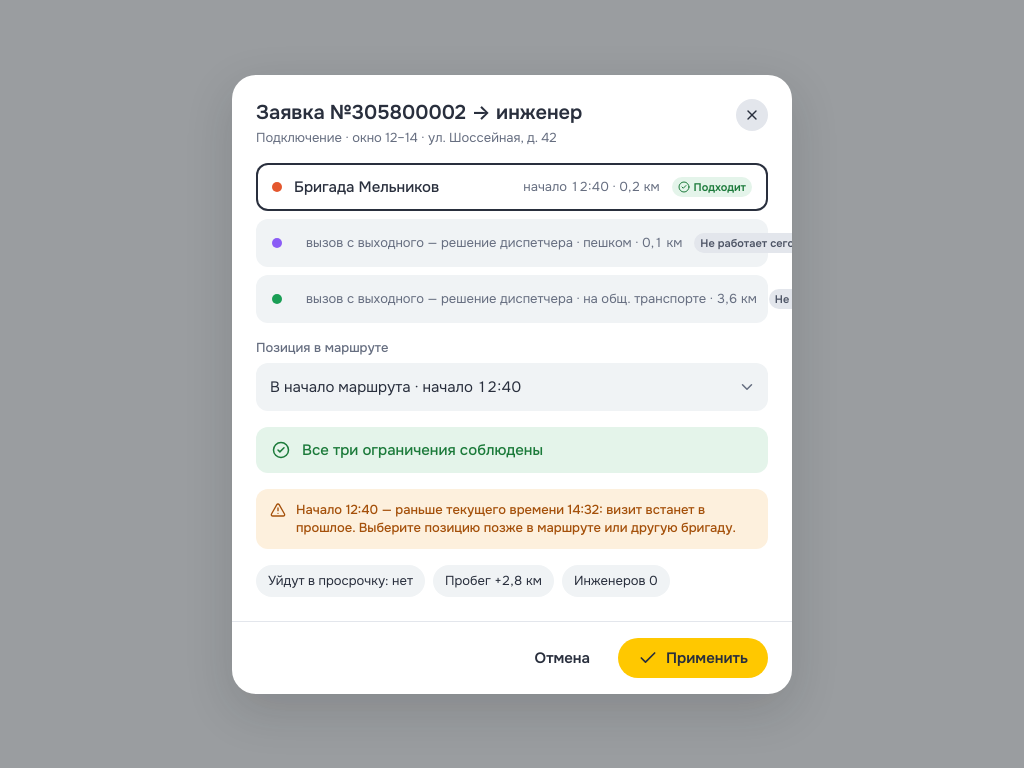
Test: DS-08 «Ручное переназначение» › ошибка применения — текст бэка в окне, окно остаётся открытым
The width and height of the screenshot is (1024, 768).
Expected: the text "Все три ограничения соблюдены" is shown, [256,426,768,472]
Click the button "Применить". click: (693, 658)
box: [618,638,768,678]
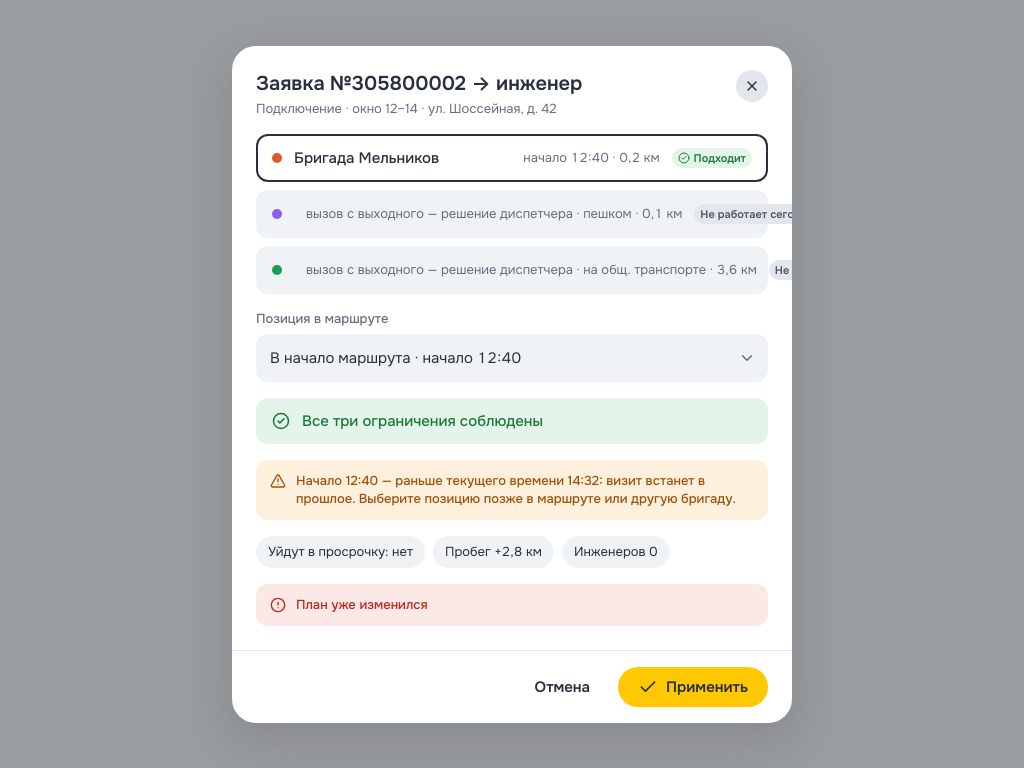
Expected: the text "План уже изменился" is shown, [296,596,428,612]
